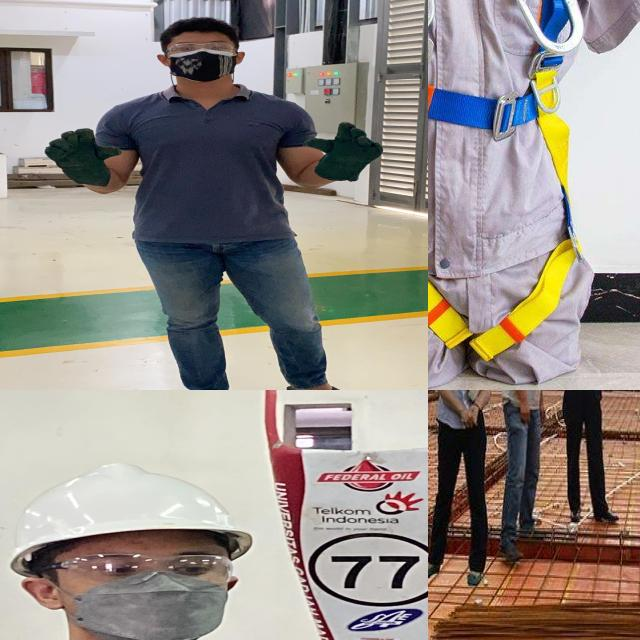Harness: (428, 0, 577, 359)
face_mask: (52, 550, 231, 640), (162, 41, 240, 77)
glasses: (32, 548, 242, 588), (160, 39, 242, 58)
hand_glove: (296, 119, 392, 182), (39, 124, 122, 186)
head_helmet: (2, 461, 262, 557)
head_nohelmet: (162, 14, 233, 41)
person: (37, 19, 401, 390), (0, 460, 428, 640), (428, 390, 495, 594), (490, 390, 559, 562), (550, 390, 619, 529)
shoes: (496, 538, 526, 564), (588, 502, 623, 524), (461, 565, 486, 588), (566, 504, 586, 524), (428, 555, 440, 581)
